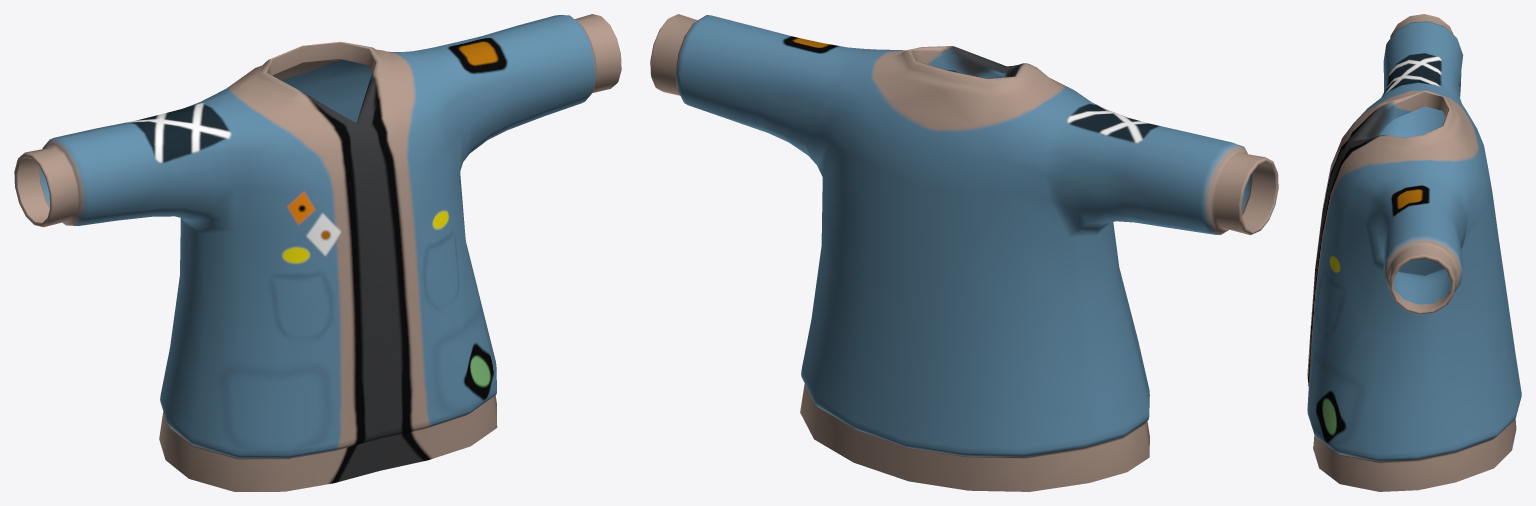
File: upper cloth 08.glb
3 views of the same model, side by side, from view 1: azimuth 30°, elevation 25°; view 2: azimuth 150°, elevation 25°; view 3: azimuth 270°, elevation 25° (orthographic). The views are drawn at different scales.
Parts seen in each view (by area): view 1: upper_cloth_08; view 2: upper_cloth_08; view 3: upper_cloth_08.
Part boxes in pixels (<box>): upper_cloth_08: <box>14,14,621,491</box>; upper_cloth_08: <box>650,14,1278,491</box>; upper_cloth_08: <box>1307,14,1521,491</box>.
Bounding box in the file's own units: 0.0116 × 0.00715 × 0.00433.
1 material, 1 textured.
